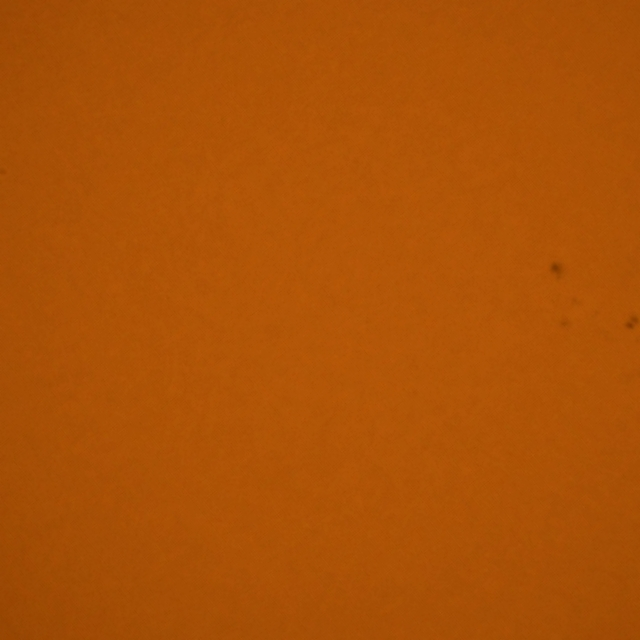sunspot: (623, 312, 640, 333), (548, 260, 564, 280)
